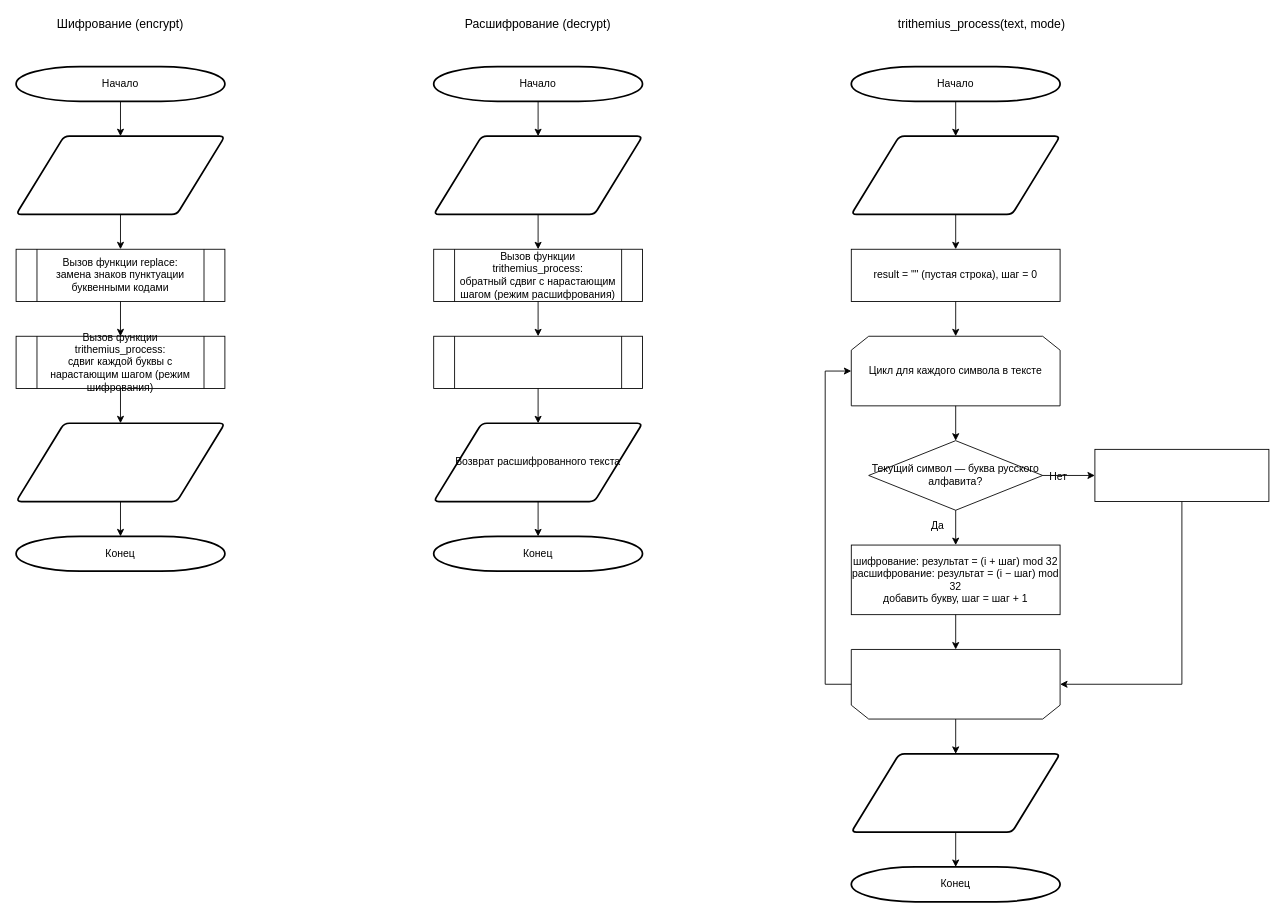
The diagram is 1284 pixels wide and 917 high, and some of its shapes have lost their labels. The shapes that lost their labels are listed below. From the top down, each one's centre as x and y in pixels, then its label:
point 120,175: Ввод: текст
point 537,175: Ввод: шифртекст
point 955,175: Ввод: текст и режим (1 — шифрование, 2 — расшифрование)
point 537,361: Вызов функции restore: восстановление знаков пунктуации из кодов
point 120,462: Возврат зашифрованного текста
point 1181,475: добавить символ без изменений
point 955,793: Возврат строки результата
